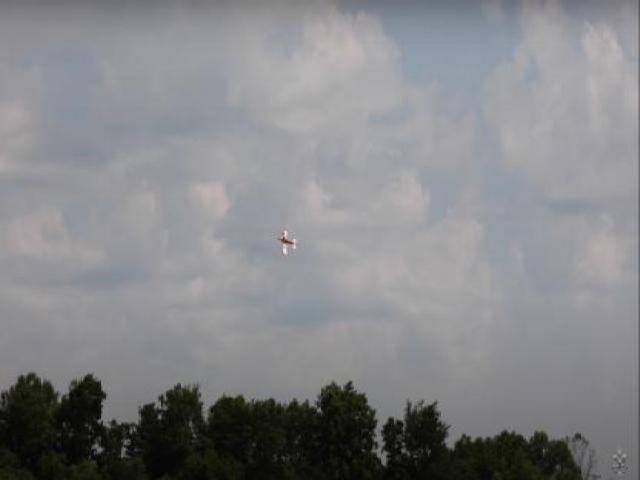uav: (276, 223, 299, 262)
